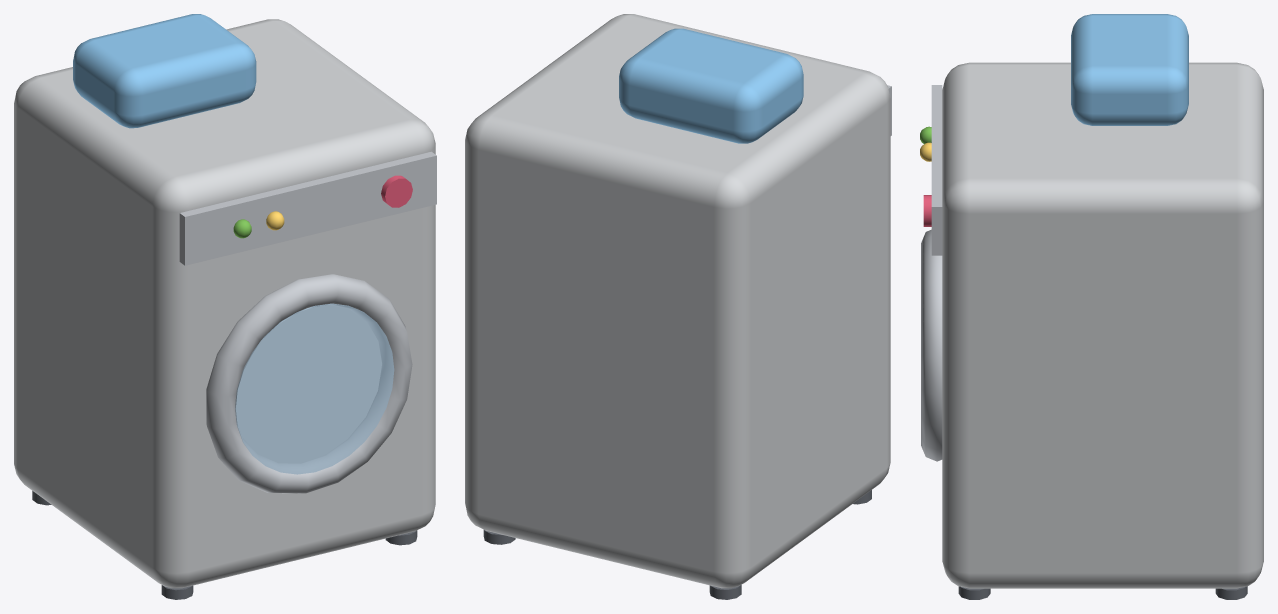
File: washer.glb
3 views of the same model, side by side, from view 1: azimuth 30°, elevation 25°; view 2: azimuth 150°, elevation 25°; view 3: azimuth 270°, elevation 25° (orthographic).
Size of the model in its own units: 0.6 by 0.98 by 0.6417.
